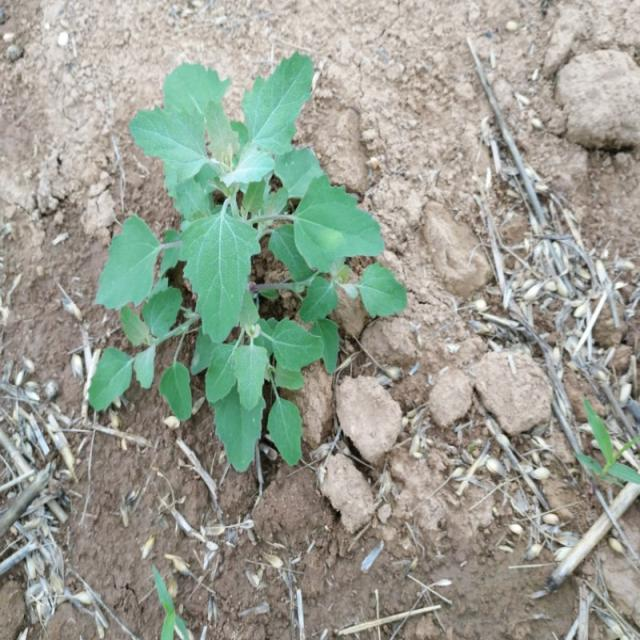goosefoots: (79, 42, 412, 464)
